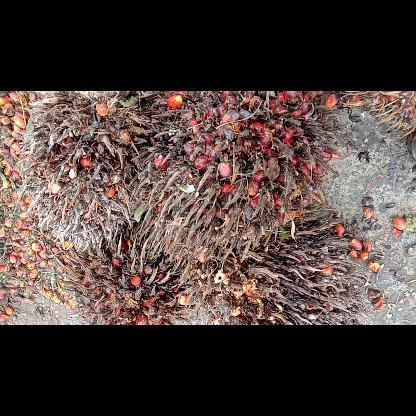Terlalu masak: (129, 91, 343, 269), (13, 90, 177, 260), (178, 192, 372, 324), (46, 224, 200, 324)
